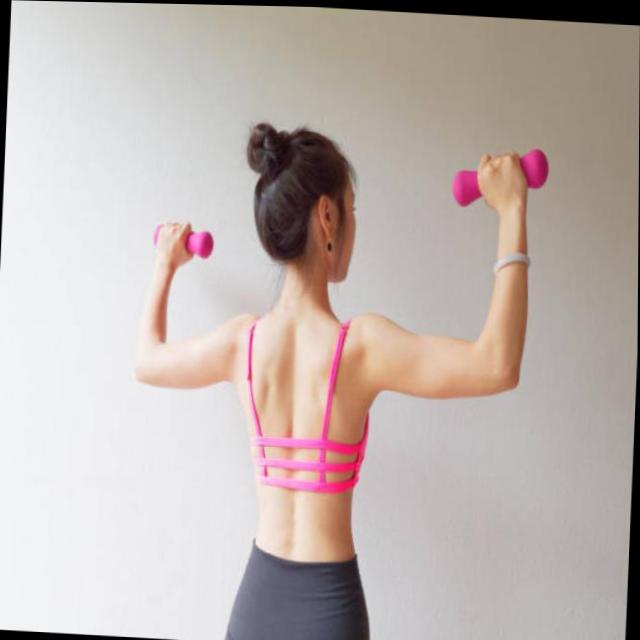no helmet: (238, 117, 361, 306)
